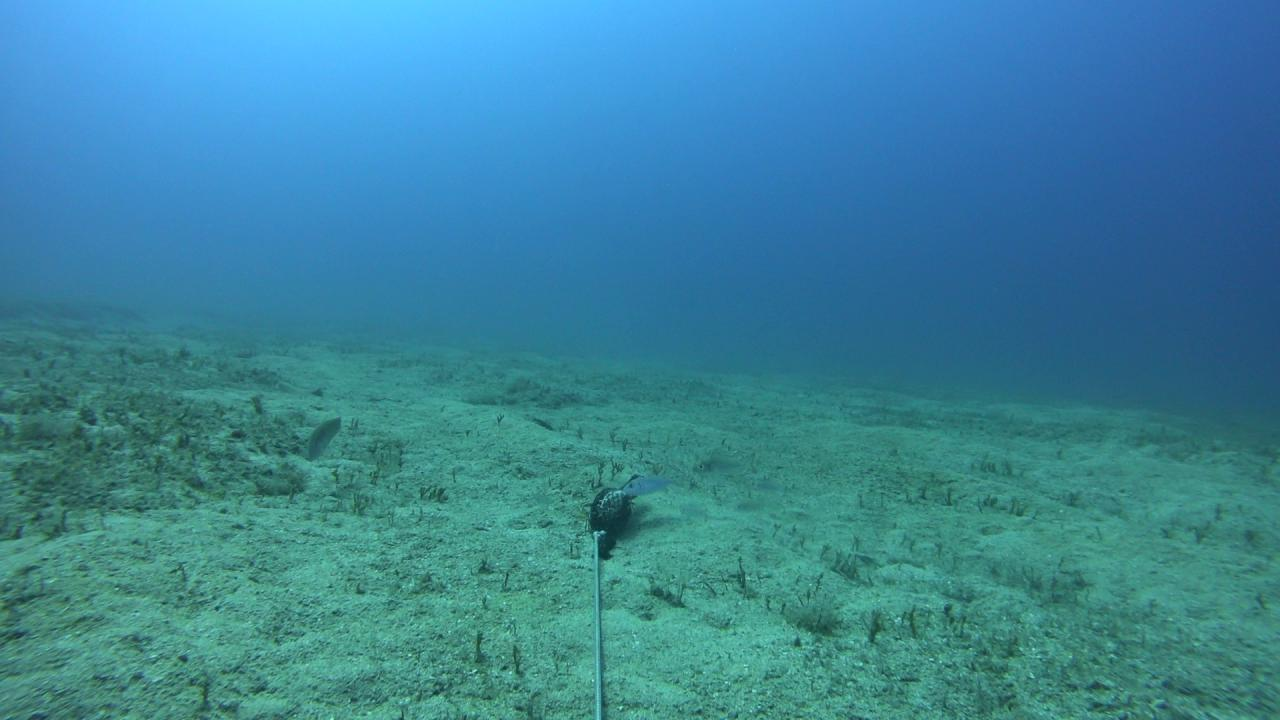pagellus: (692, 450, 758, 477), (626, 473, 679, 499), (734, 500, 774, 514), (749, 481, 787, 495), (679, 506, 707, 522)
raor: (304, 413, 342, 462)
